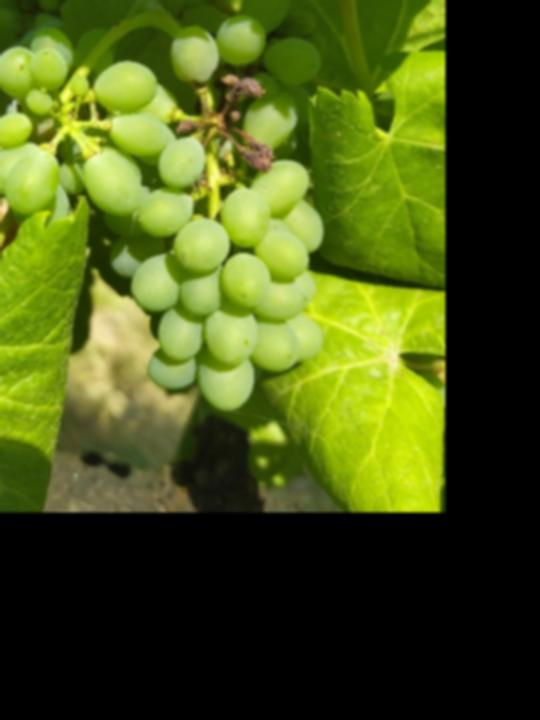grape: (0, 0, 332, 416)
